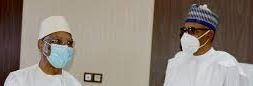with_facemask: (47, 38, 77, 70), (175, 27, 204, 55)
